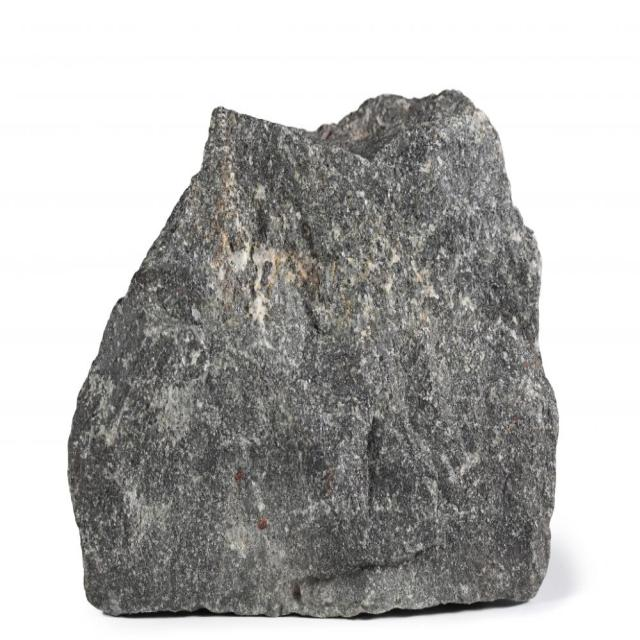Igneous: (53, 77, 564, 640)
